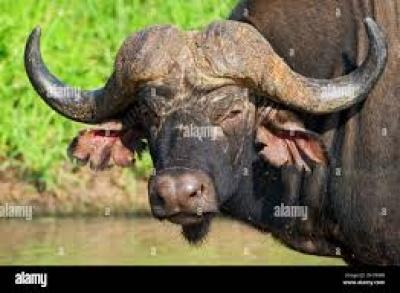buffalo: (24, 0, 399, 266)
